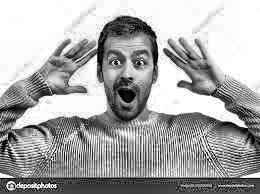surprised: (100, 19, 155, 122)
